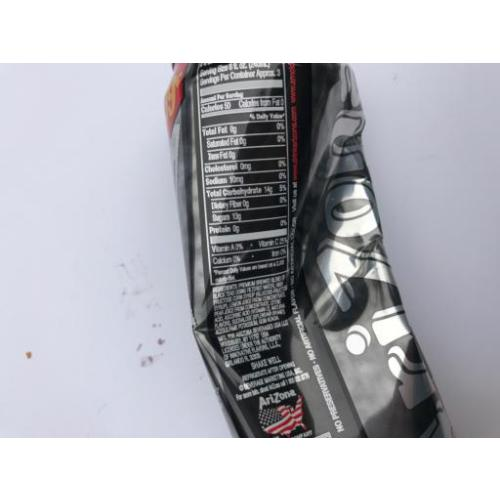metal: (167, 60, 448, 438)
